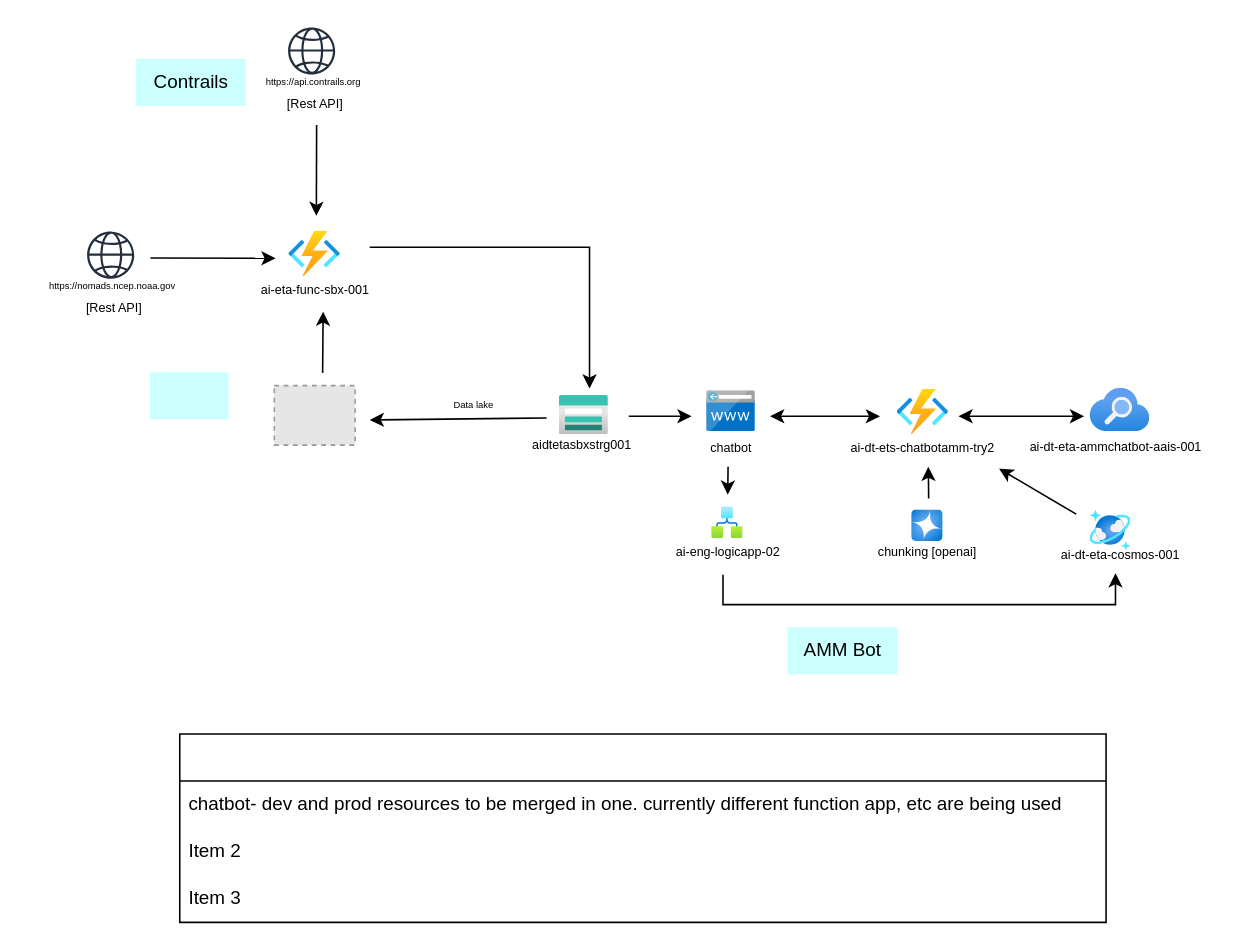
This 1243x950 diagram has some shape labels left out. Grey dashed boxes stand in for pictures. Here are the shapes that lost their labels. From the top down, the box of each, then its label:
(149, 371, 228, 419): IFCP
(178, 732, 1106, 922): Issues
